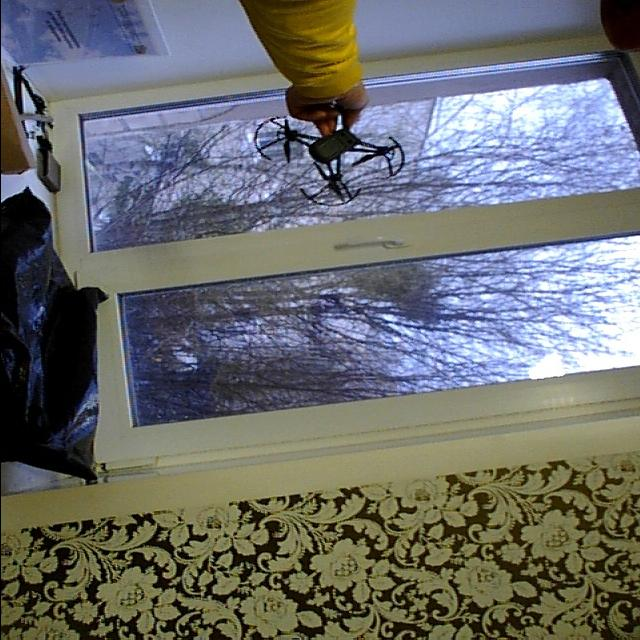drone: (236, 86, 424, 218)
